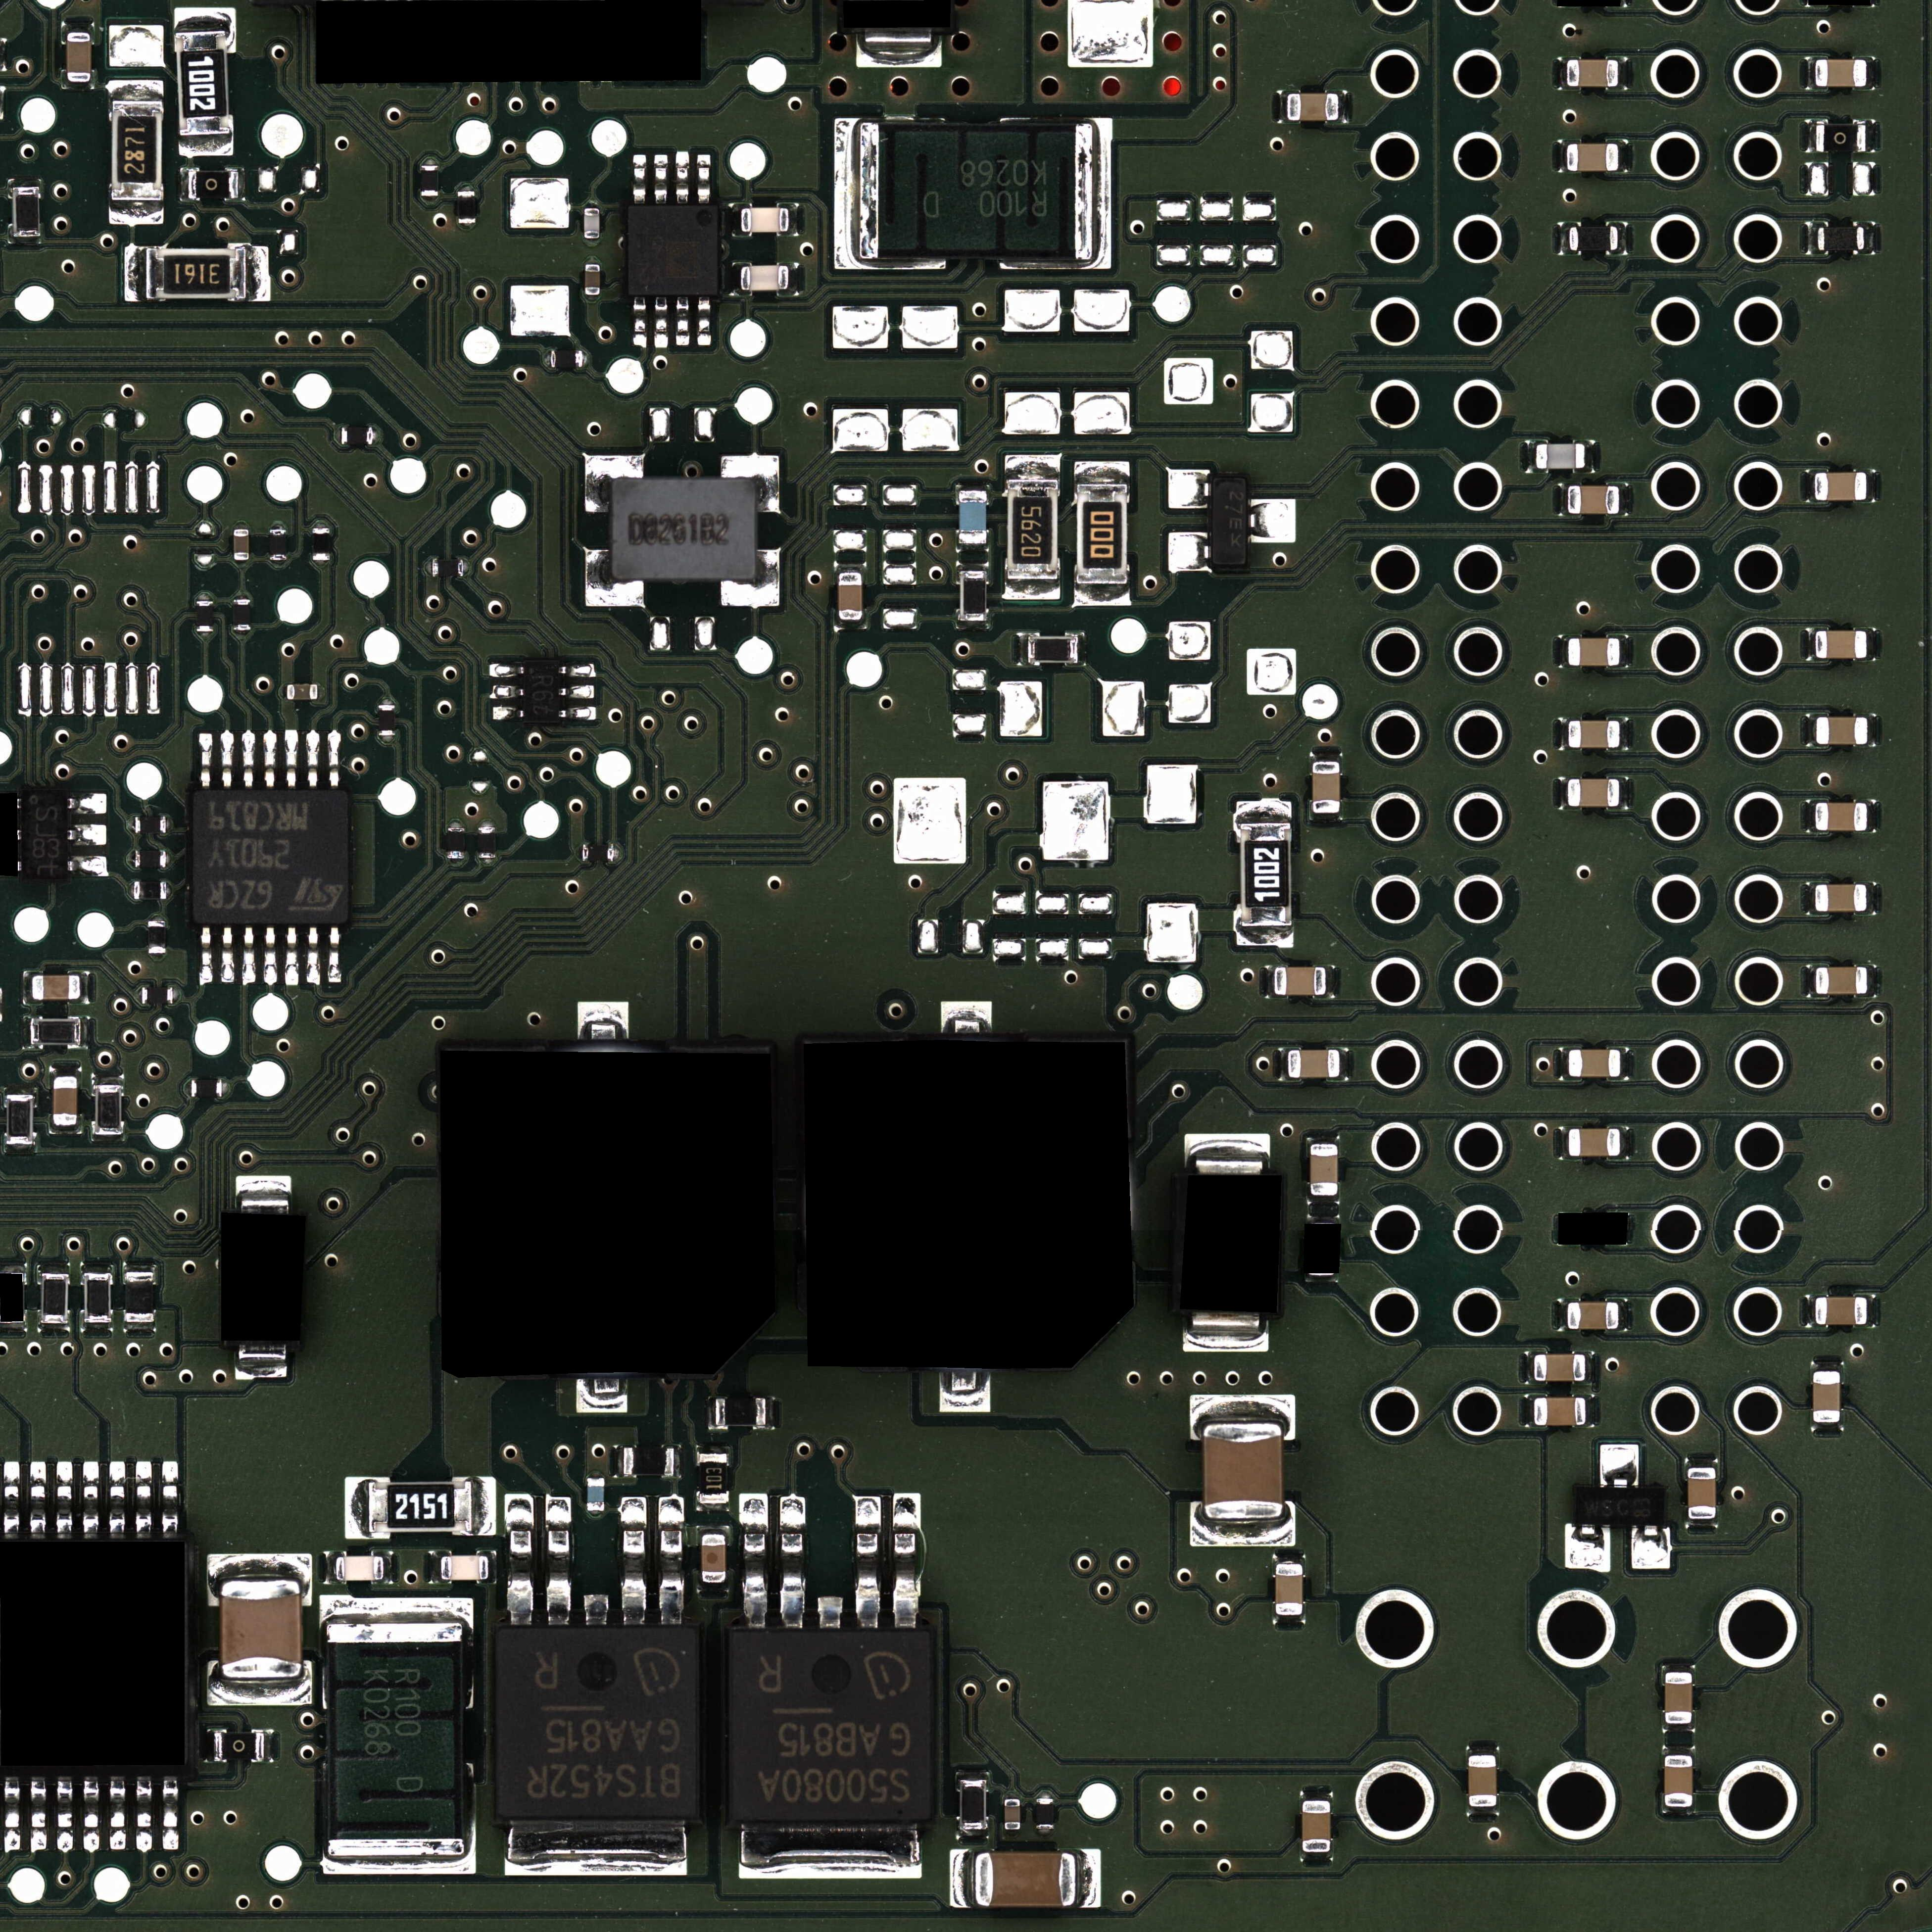Package: (732, 1631, 932, 1821), (497, 1628, 697, 1817), (860, 122, 1093, 260), (326, 1624, 464, 1856), (193, 789, 349, 924), (612, 478, 755, 579), (219, 1580, 303, 1679), (628, 205, 718, 295), (1201, 1422, 1284, 1520), (368, 1481, 472, 1534), (975, 1852, 1076, 1907), (177, 32, 230, 134), (1238, 824, 1292, 927), (1005, 479, 1058, 580), (1076, 485, 1129, 584), (145, 248, 246, 299), (111, 101, 163, 200), (21, 791, 67, 881), (1575, 1488, 1667, 1525), (1212, 476, 1247, 566), (524, 662, 561, 722), (188, 170, 239, 200), (715, 1398, 766, 1428), (1568, 485, 1619, 515), (1274, 966, 1325, 996), (1813, 472, 1867, 501), (1815, 717, 1868, 745), (1566, 143, 1619, 172), (1568, 1049, 1621, 1077), (1568, 1129, 1621, 1157), (959, 492, 987, 543), (699, 1453, 727, 1504), (623, 1447, 674, 1476), (1815, 630, 1867, 658), (1815, 885, 1867, 913), (1568, 639, 1619, 667), (1815, 803, 1867, 832), (1815, 966, 1867, 994), (1568, 720, 1619, 748), (1815, 124, 1867, 152), (1568, 778, 1619, 807), (1815, 1297, 1867, 1325), (1568, 1302, 1619, 1330), (1302, 1801, 1330, 1852), (1309, 1145, 1338, 1196), (1665, 1672, 1693, 1723), (1534, 1398, 1585, 1426), (1288, 1049, 1339, 1077), (1534, 1353, 1585, 1382), (1468, 1755, 1497, 1806), (1665, 1755, 1693, 1806), (1286, 94, 1339, 120), (1313, 761, 1339, 814), (1566, 60, 1619, 87), (214, 1732, 264, 1760), (126, 1272, 154, 1322), (1688, 1468, 1716, 1518), (30, 1019, 81, 1046), (1815, 60, 1867, 87), (1813, 1371, 1840, 1422), (1276, 1564, 1302, 1615), (959, 571, 985, 621), (12, 188, 39, 237), (96, 1085, 122, 1134), (1028, 637, 1077, 663), (7, 1095, 32, 1145), (701, 1534, 725, 1583), (53, 1076, 78, 1125), (42, 1274, 67, 1323), (961, 1780, 985, 1829), (1536, 444, 1585, 469), (1569, 226, 1619, 251), (741, 207, 789, 232), (839, 571, 863, 619), (741, 265, 789, 290), (32, 975, 80, 1000), (441, 1555, 488, 1580), (85, 1274, 110, 1322), (1817, 226, 1865, 251), (67, 32, 90, 81), (336, 1557, 384, 1580), (311, 527, 331, 561), (133, 881, 166, 901), (149, 920, 166, 954), (587, 1477, 605, 1511), (1035, 1799, 1054, 1829), (550, 350, 582, 368), (478, 826, 495, 858), (582, 844, 614, 862), (432, 559, 464, 577), (421, 165, 439, 196), (458, 191, 476, 223), (341, 426, 373, 444), (134, 816, 166, 833), (191, 1079, 223, 1097), (448, 828, 465, 858), (269, 529, 287, 559), (196, 602, 214, 632), (142, 987, 173, 1003), (134, 851, 166, 867), (379, 704, 395, 736), (287, 685, 317, 701), (234, 600, 249, 630), (234, 529, 249, 559), (584, 209, 600, 239), (1005, 1799, 1021, 1829), (586, 264, 600, 295)
Solder: (506, 1819, 686, 1877), (740, 1822, 918, 1881), (320, 1598, 474, 1624), (833, 119, 860, 271), (892, 1493, 920, 1631), (778, 1495, 807, 1628), (506, 1495, 534, 1626), (741, 1495, 768, 1629), (1184, 1132, 1270, 1173), (855, 1497, 881, 1629), (658, 1497, 685, 1626), (545, 1497, 571, 1626), (621, 1497, 648, 1626), (586, 455, 644, 513), (722, 455, 778, 513), (722, 550, 780, 607), (586, 550, 644, 607), (1189, 1518, 1295, 1548), (1182, 1316, 1269, 1352), (1189, 1394, 1297, 1422), (207, 1677, 311, 1706), (856, 34, 943, 67), (207, 1553, 311, 1580), (322, 1856, 478, 1874), (1093, 119, 1111, 269), (938, 1371, 991, 1414), (235, 1175, 292, 1212), (577, 1001, 630, 1040), (1249, 499, 1295, 543), (1564, 1525, 1610, 1569), (575, 1378, 628, 1414), (1599, 1444, 1640, 1488), (1631, 1525, 1670, 1569), (1168, 469, 1210, 508), (1168, 533, 1210, 571), (234, 1348, 288, 1378), (941, 1001, 993, 1033), (173, 7, 235, 32), (2, 1460, 21, 1537), (28, 1460, 48, 1537), (81, 1460, 101, 1537), (134, 1460, 154, 1537), (108, 1460, 127, 1537), (28, 1776, 48, 1854), (81, 1776, 101, 1854), (55, 1776, 74, 1854), (108, 1776, 127, 1854), (134, 1776, 154, 1854), (161, 1776, 180, 1854), (345, 1477, 368, 1539), (1005, 455, 1062, 479), (472, 1476, 495, 1536), (950, 1849, 973, 1909), (1077, 1849, 1100, 1909), (55, 1460, 73, 1537), (161, 1460, 179, 1537), (4, 1776, 21, 1854), (108, 202, 165, 225), (1074, 584, 1131, 607), (124, 246, 145, 303), (1074, 462, 1131, 483), (1235, 801, 1292, 823), (248, 246, 269, 301), (108, 80, 163, 101), (179, 136, 234, 157), (1235, 927, 1293, 947), (1003, 580, 1060, 600), (67, 855, 110, 878), (285, 729, 299, 789), (306, 729, 320, 789), (327, 729, 341, 789), (198, 927, 212, 985), (285, 927, 299, 985), (242, 927, 257, 985), (264, 927, 278, 985), (306, 927, 320, 985), (67, 793, 106, 814), (67, 824, 106, 846), (198, 732, 212, 789), (221, 927, 235, 984), (327, 927, 341, 984), (817, 1596, 842, 1628), (676, 150, 690, 203), (221, 729, 234, 789), (242, 729, 255, 789), (264, 729, 276, 789), (584, 1594, 609, 1624), (655, 297, 669, 349), (633, 297, 648, 349), (655, 154, 669, 203), (697, 297, 711, 347), (697, 154, 711, 203), (676, 297, 690, 347), (633, 154, 646, 203), (561, 706, 596, 720), (561, 663, 596, 678), (488, 663, 524, 678), (561, 685, 594, 699), (490, 685, 524, 699), (494, 706, 524, 720), (1079, 632, 1090, 667), (37, 1263, 71, 1274), (326, 1552, 336, 1585), (384, 1552, 395, 1585), (731, 262, 741, 295), (731, 203, 741, 237), (789, 262, 800, 295), (674, 1445, 685, 1479), (1017, 633, 1028, 667), (1557, 1299, 1568, 1332), (1585, 1394, 1596, 1428), (124, 1322, 156, 1332), (92, 1074, 124, 1085), (264, 1730, 274, 1762), (430, 1552, 441, 1583), (708, 1398, 718, 1430), (1585, 441, 1596, 472), (1525, 441, 1536, 472), (1619, 483, 1629, 515), (1812, 1361, 1844, 1371), (7, 177, 41, 186), (37, 1323, 71, 1332), (4, 1145, 37, 1154), (488, 1550, 497, 1583), (205, 1729, 214, 1762), (833, 621, 867, 630), (955, 621, 989, 630), (955, 543, 989, 552), (766, 1396, 775, 1430), (695, 1444, 729, 1453), (614, 1445, 623, 1479), (955, 1771, 989, 1780), (1277, 90, 1286, 124), (1327, 964, 1336, 998), (1265, 964, 1274, 998), (1339, 1047, 1348, 1081), (1279, 1047, 1288, 1081), (1272, 1555, 1306, 1564), (1272, 1615, 1306, 1624), (1619, 57, 1628, 90), (1806, 57, 1815, 90), (1867, 469, 1875, 502), (1619, 140, 1628, 173), (1867, 57, 1875, 90), (1805, 469, 1813, 502), (1808, 221, 1817, 255), (1865, 221, 1874, 255), (1559, 483, 1568, 517), (1867, 628, 1875, 662), (1559, 777, 1568, 810), (1619, 777, 1628, 810), (1559, 635, 1568, 669), (1806, 964, 1815, 998), (1525, 1394, 1534, 1428), (1467, 1746, 1500, 1755), (1684, 1458, 1718, 1467), (1661, 1746, 1695, 1755), (1684, 1520, 1718, 1529), (1661, 1663, 1695, 1672), (239, 168, 248, 200), (62, 23, 94, 32), (62, 81, 94, 90), (81, 1263, 113, 1272), (81, 1323, 113, 1332), (50, 1067, 81, 1076), (80, 971, 88, 1003), (50, 1125, 81, 1134), (21, 1016, 30, 1047), (23, 971, 32, 1003), (81, 1016, 90, 1047), (124, 1263, 156, 1272), (789, 203, 798, 235), (835, 563, 867, 571), (957, 561, 989, 570), (697, 1525, 729, 1534), (697, 1504, 729, 1513), (697, 1583, 729, 1592), (957, 1829, 989, 1838), (1311, 752, 1343, 761), (1307, 1196, 1339, 1205), (1300, 1790, 1332, 1799), (1300, 1852, 1332, 1861), (1806, 120, 1815, 152), (1560, 223, 1569, 255), (1867, 120, 1875, 152), (1806, 628, 1815, 660), (1867, 883, 1875, 915), (1806, 800, 1815, 832), (1621, 635, 1629, 667), (1806, 883, 1815, 915), (1525, 1352, 1534, 1384), (1585, 1352, 1594, 1384), (1806, 1295, 1815, 1327), (1621, 1127, 1629, 1159), (1621, 1047, 1629, 1079), (1619, 1299, 1628, 1330), (1812, 1422, 1844, 1431), (1467, 1806, 1499, 1815), (1663, 1723, 1695, 1732), (1663, 1806, 1695, 1815), (180, 168, 188, 202), (9, 237, 42, 244), (4, 1086, 37, 1093), (955, 483, 989, 490), (1339, 90, 1346, 124), (1309, 814, 1343, 821), (1559, 57, 1566, 90), (1619, 221, 1626, 255), (1559, 140, 1566, 173), (1868, 800, 1875, 833), (1808, 713, 1815, 747), (1868, 964, 1875, 998), (92, 1134, 124, 1141), (1307, 1136, 1339, 1143), (1621, 718, 1628, 750), (1560, 718, 1568, 750), (1868, 715, 1875, 747), (1560, 1127, 1568, 1159), (1560, 1047, 1568, 1079), (1868, 1295, 1875, 1327), (1306, 1276, 1338, 1283), (1307, 1217, 1339, 1223), (166, 881, 175, 899), (133, 987, 142, 1005), (334, 425, 341, 446), (373, 426, 380, 446), (478, 858, 497, 865), (584, 350, 591, 370), (458, 223, 476, 230), (421, 157, 439, 165), (166, 851, 173, 869), (127, 851, 134, 869), (126, 881, 133, 899), (149, 913, 166, 920), (127, 816, 134, 833), (149, 954, 166, 961), (425, 559, 432, 577), (166, 816, 173, 833), (448, 821, 465, 828), (464, 559, 471, 577), (478, 819, 495, 826), (313, 561, 331, 568), (184, 1079, 191, 1097), (223, 1079, 230, 1097), (614, 844, 621, 862), (587, 1511, 605, 1518), (587, 1470, 605, 1477), (1003, 1792, 1021, 1799), (1003, 1829, 1021, 1836), (1037, 1829, 1054, 1836), (280, 683, 287, 701), (421, 196, 439, 203), (458, 184, 474, 191), (317, 685, 324, 701), (173, 987, 180, 1003), (584, 257, 600, 264), (1037, 1790, 1053, 1798), (379, 697, 395, 704), (446, 860, 465, 865), (545, 350, 550, 370), (234, 594, 251, 600), (311, 522, 329, 527), (269, 524, 287, 529), (196, 632, 214, 637), (577, 844, 582, 862), (234, 524, 249, 529), (196, 596, 212, 602), (584, 202, 600, 207), (584, 239, 600, 244), (584, 295, 600, 301), (379, 736, 395, 741), (234, 630, 251, 633), (269, 561, 287, 564), (234, 561, 249, 564)
